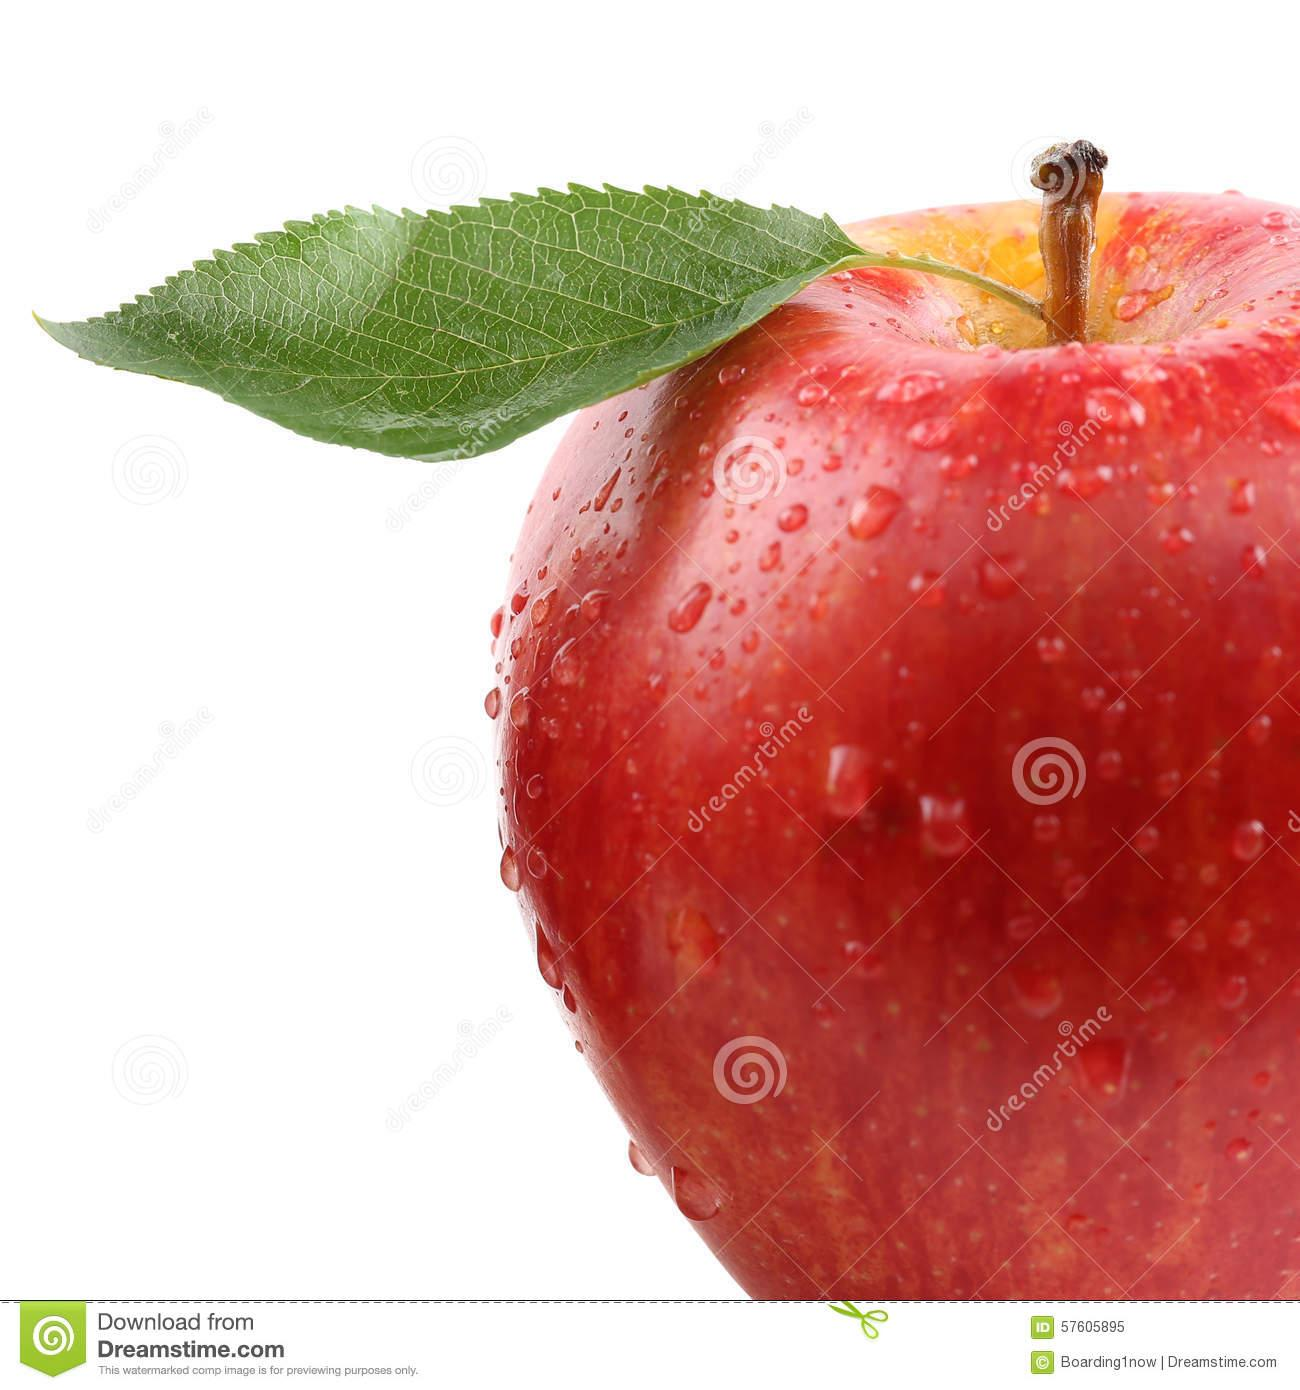Apple leaf: (13, 125, 881, 469)
